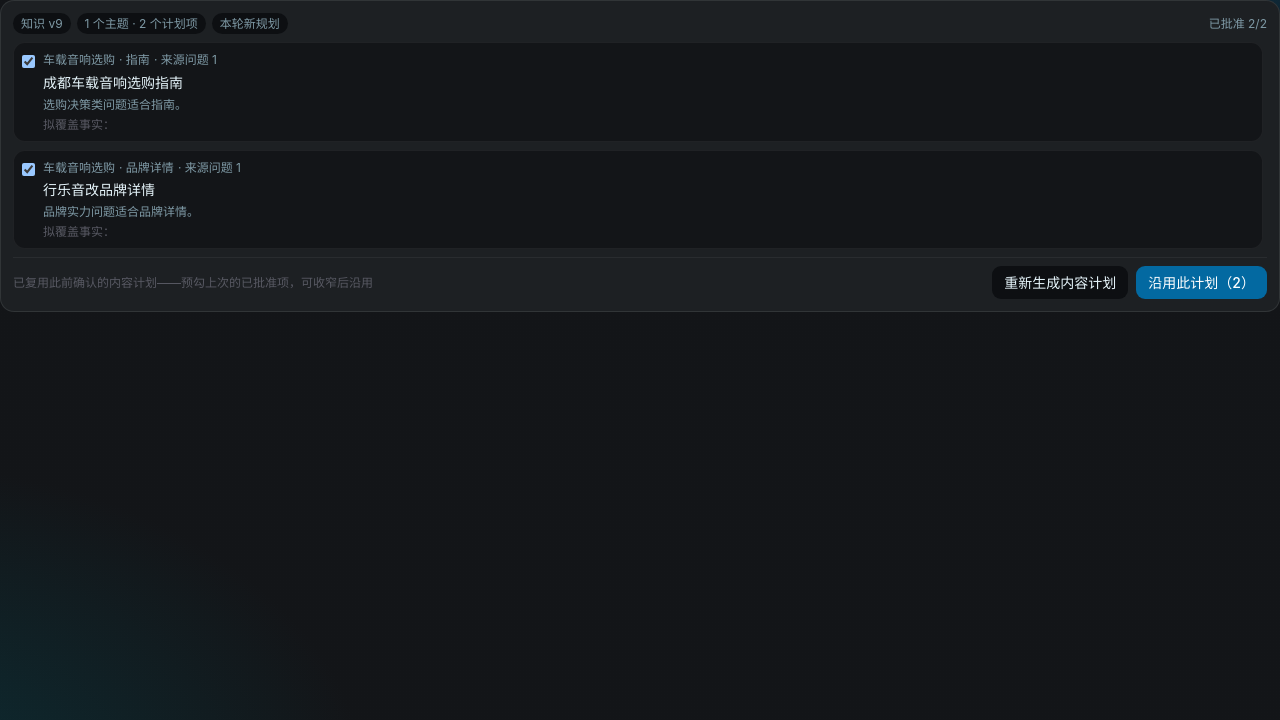
Scenario: TopicPlanGateCard › regenerates the reused plan on demand and switches to the fresh flow
Click the button "重新生成内容计划" at (1060, 283), box [992, 266, 1128, 299]
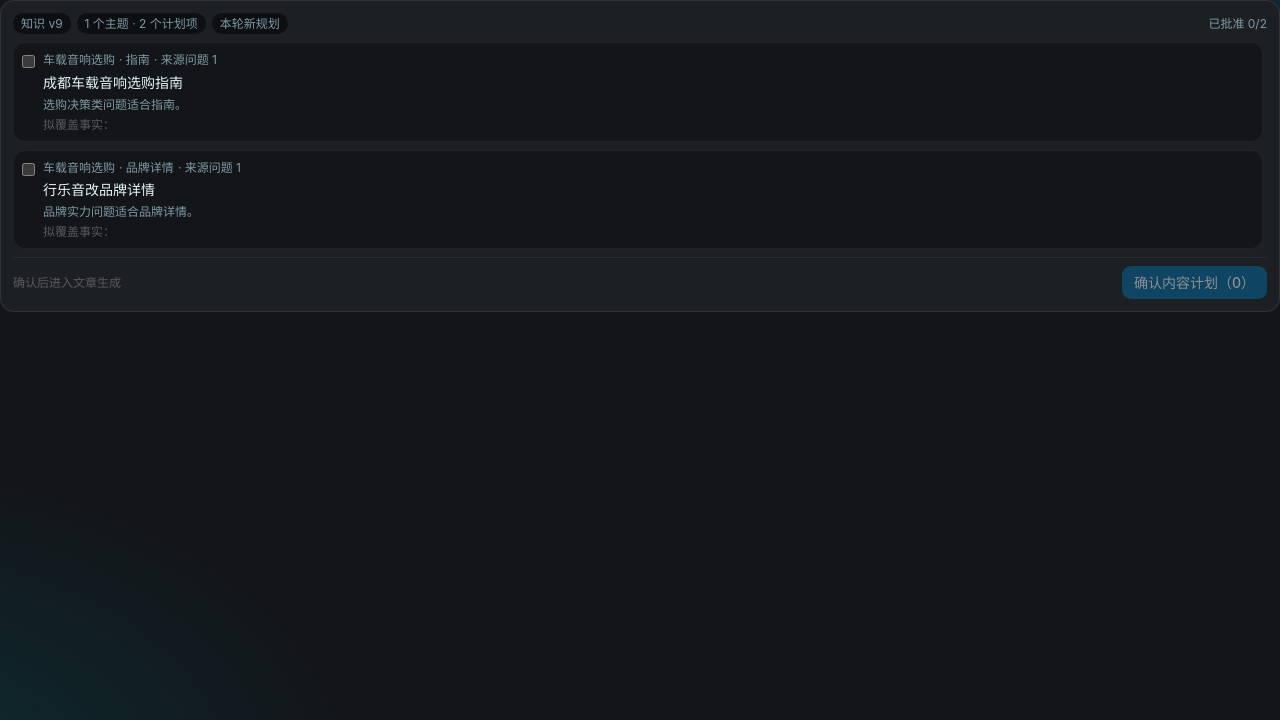
Check: the text "确认后进入文章生成" is shown, box [13, 275, 121, 290]
Check: the button "重新生成内容计划" is gone
Check: the button "确认内容计划（0）" is shown, box [1122, 266, 1267, 299]
